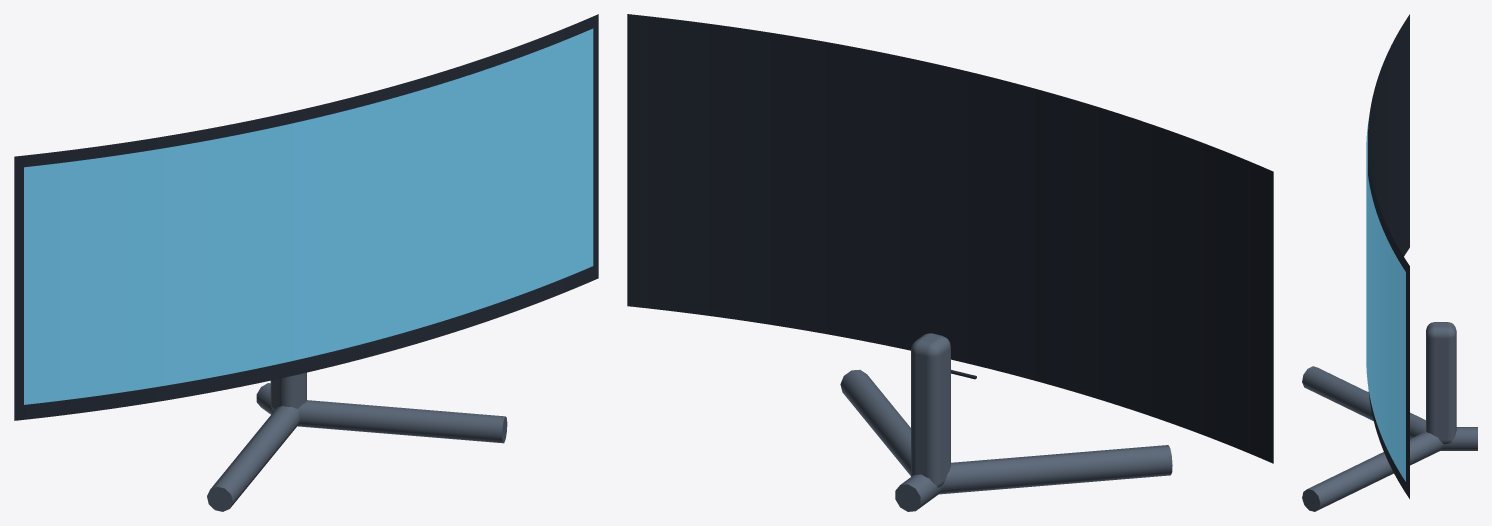
File: monitor.ultrawide.34.curved.glb
The picture shows the model from 3 angles, left to right: view 1: azimuth 30°, elevation 25°; view 2: azimuth 150°, elevation 25°; view 3: azimuth 270°, elevation 25°; orthographic projection. The views are drawn at different scales.
Visible parts, largest first — view 1: screen, body, stand; view 2: body, stand; view 3: stand, body, screen.
Boxes of the visible parts, bbox=[...] form: screen: bbox=[24, 28, 593, 404]; body: bbox=[14, 14, 598, 420]; stand: bbox=[207, 372, 507, 511]; body: bbox=[627, 14, 1273, 463]; stand: bbox=[840, 333, 1172, 511]; stand: bbox=[1302, 322, 1477, 511]; body: bbox=[1368, 14, 1409, 498]; screen: bbox=[1366, 117, 1405, 481].
Bounding box in the file's own units: 0.78 × 0.4475 × 0.23.
